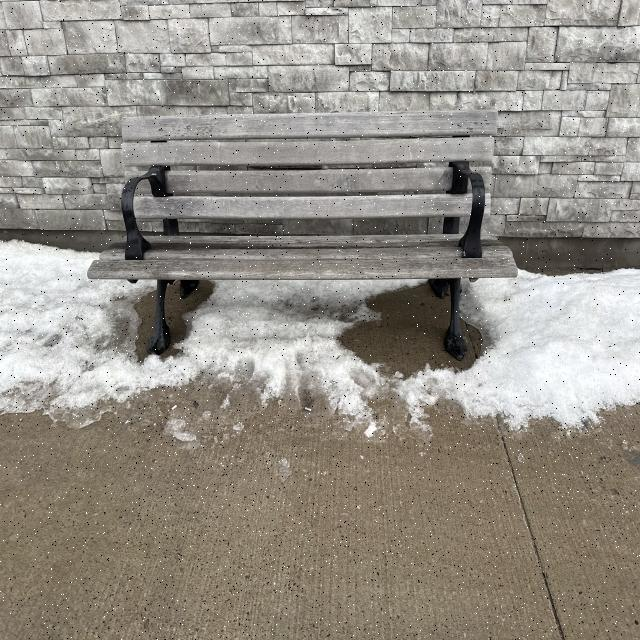Bench: (84, 100, 519, 362)
